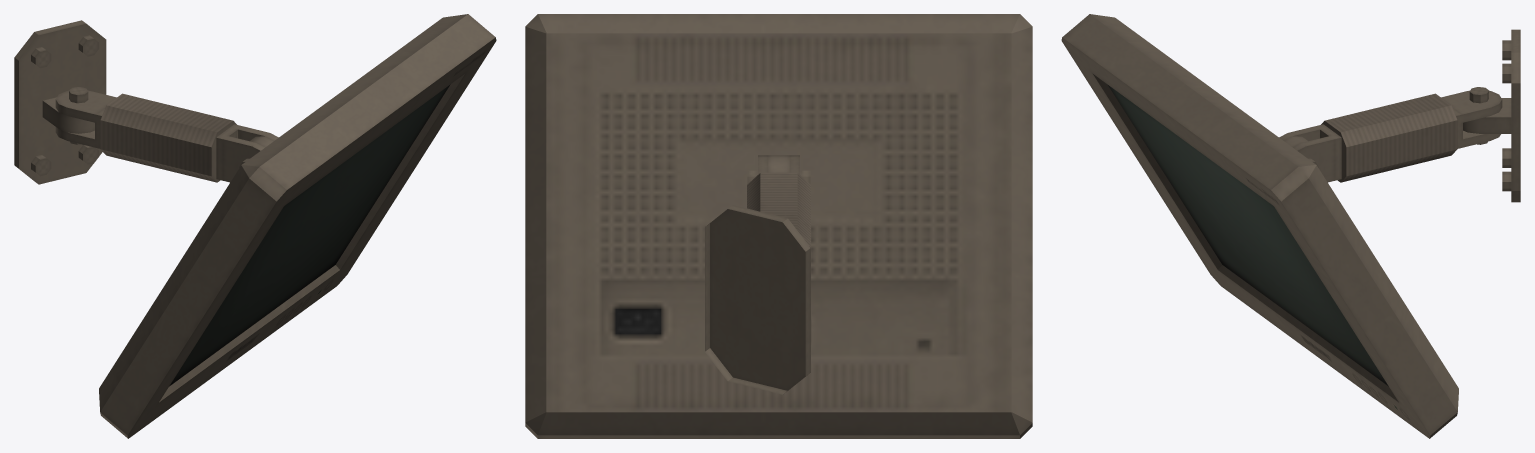
File: monitoring_screen_mp_1.obj
3 views of the same model, side by side, from view 1: azimuth 30°, elevation 25°; view 2: azimuth 150°, elevation 25°; view 3: azimuth 270°, elevation 25° (orthographic). The views are drawn at different scales.
Parts seen in each view (by area): view 1: monitoring_screen_mp_1_display, monitoring_screen_mp_1_arm, monitoring_screen_mp_1; view 2: monitoring_screen_mp_1_display, monitoring_screen_mp_1, monitoring_screen_mp_1_arm; view 3: monitoring_screen_mp_1_display, monitoring_screen_mp_1_arm, monitoring_screen_mp_1.
Boxes of the visible parts, x1=… form: monitoring_screen_mp_1_display: x1=99, y1=14, x2=496, y2=438; monitoring_screen_mp_1_arm: x1=55, y1=87, x2=278, y2=182; monitoring_screen_mp_1: x1=14, y1=20, x2=106, y2=184; monitoring_screen_mp_1_display: x1=525, y1=14, x2=1032, y2=438; monitoring_screen_mp_1: x1=705, y1=205, x2=810, y2=394; monitoring_screen_mp_1_arm: x1=747, y1=155, x2=810, y2=247; monitoring_screen_mp_1_display: x1=1061, y1=14, x2=1458, y2=438; monitoring_screen_mp_1_arm: x1=1279, y1=87, x2=1502, y2=182; monitoring_screen_mp_1: x1=1463, y1=29, x2=1520, y2=202.
Size of the model in its own units: 0.527 by 0.3664 by 0.5013.
